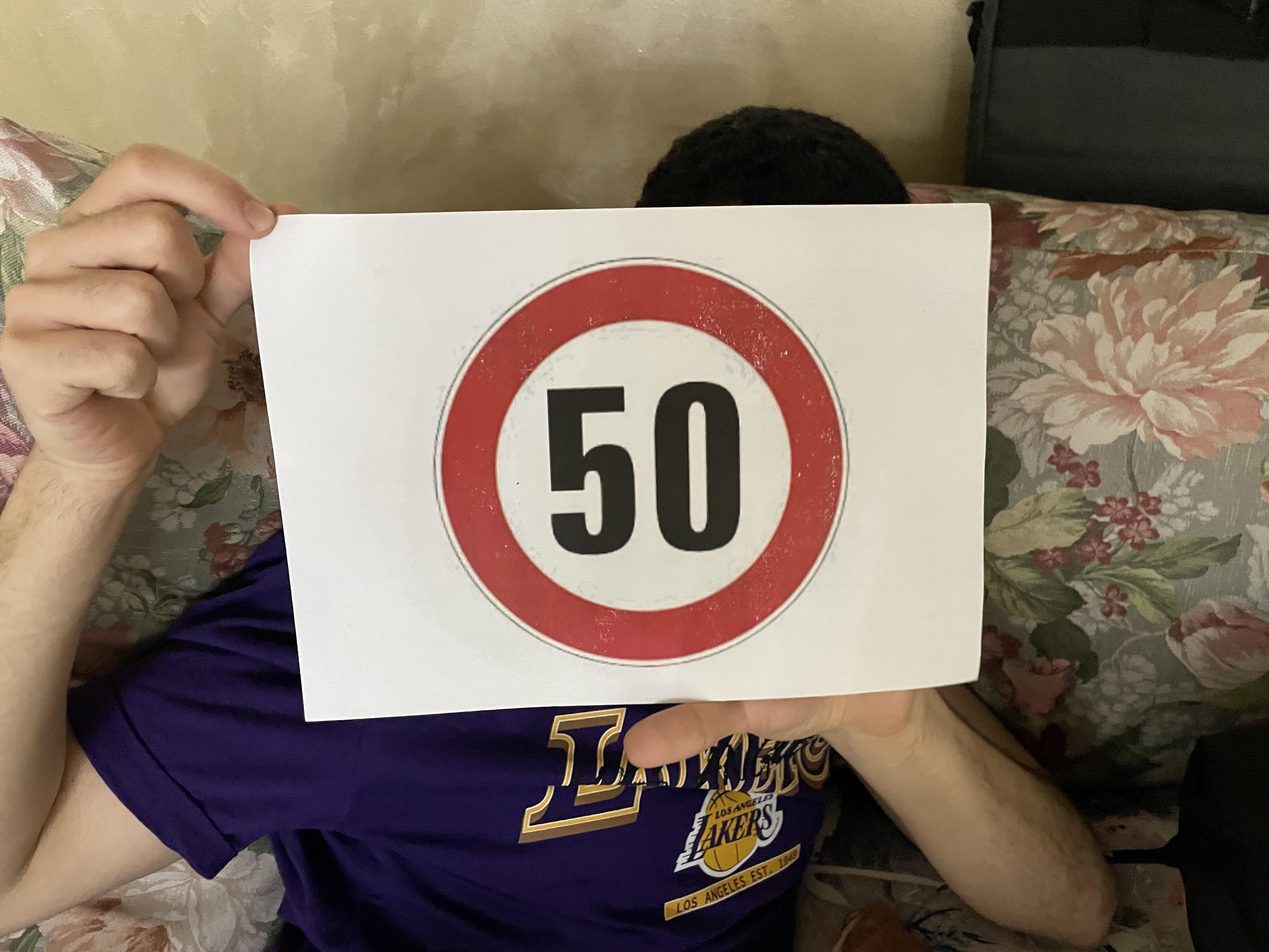50-Speed: (436, 262, 845, 667)
